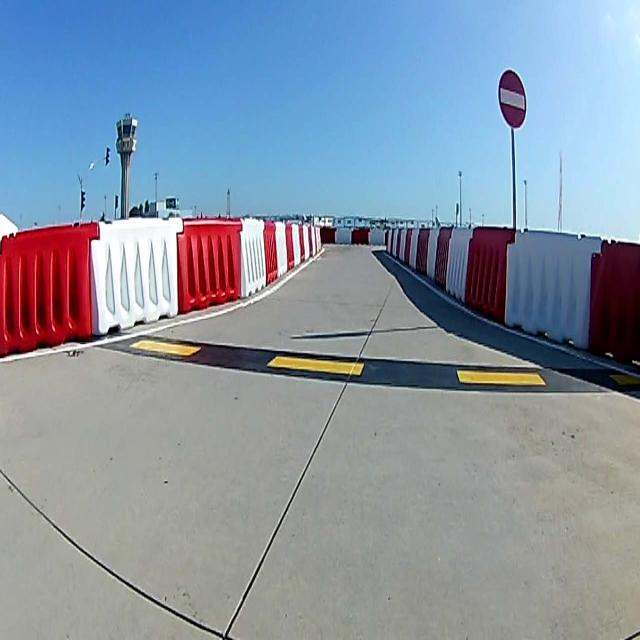girisyok: (496, 66, 528, 130)
